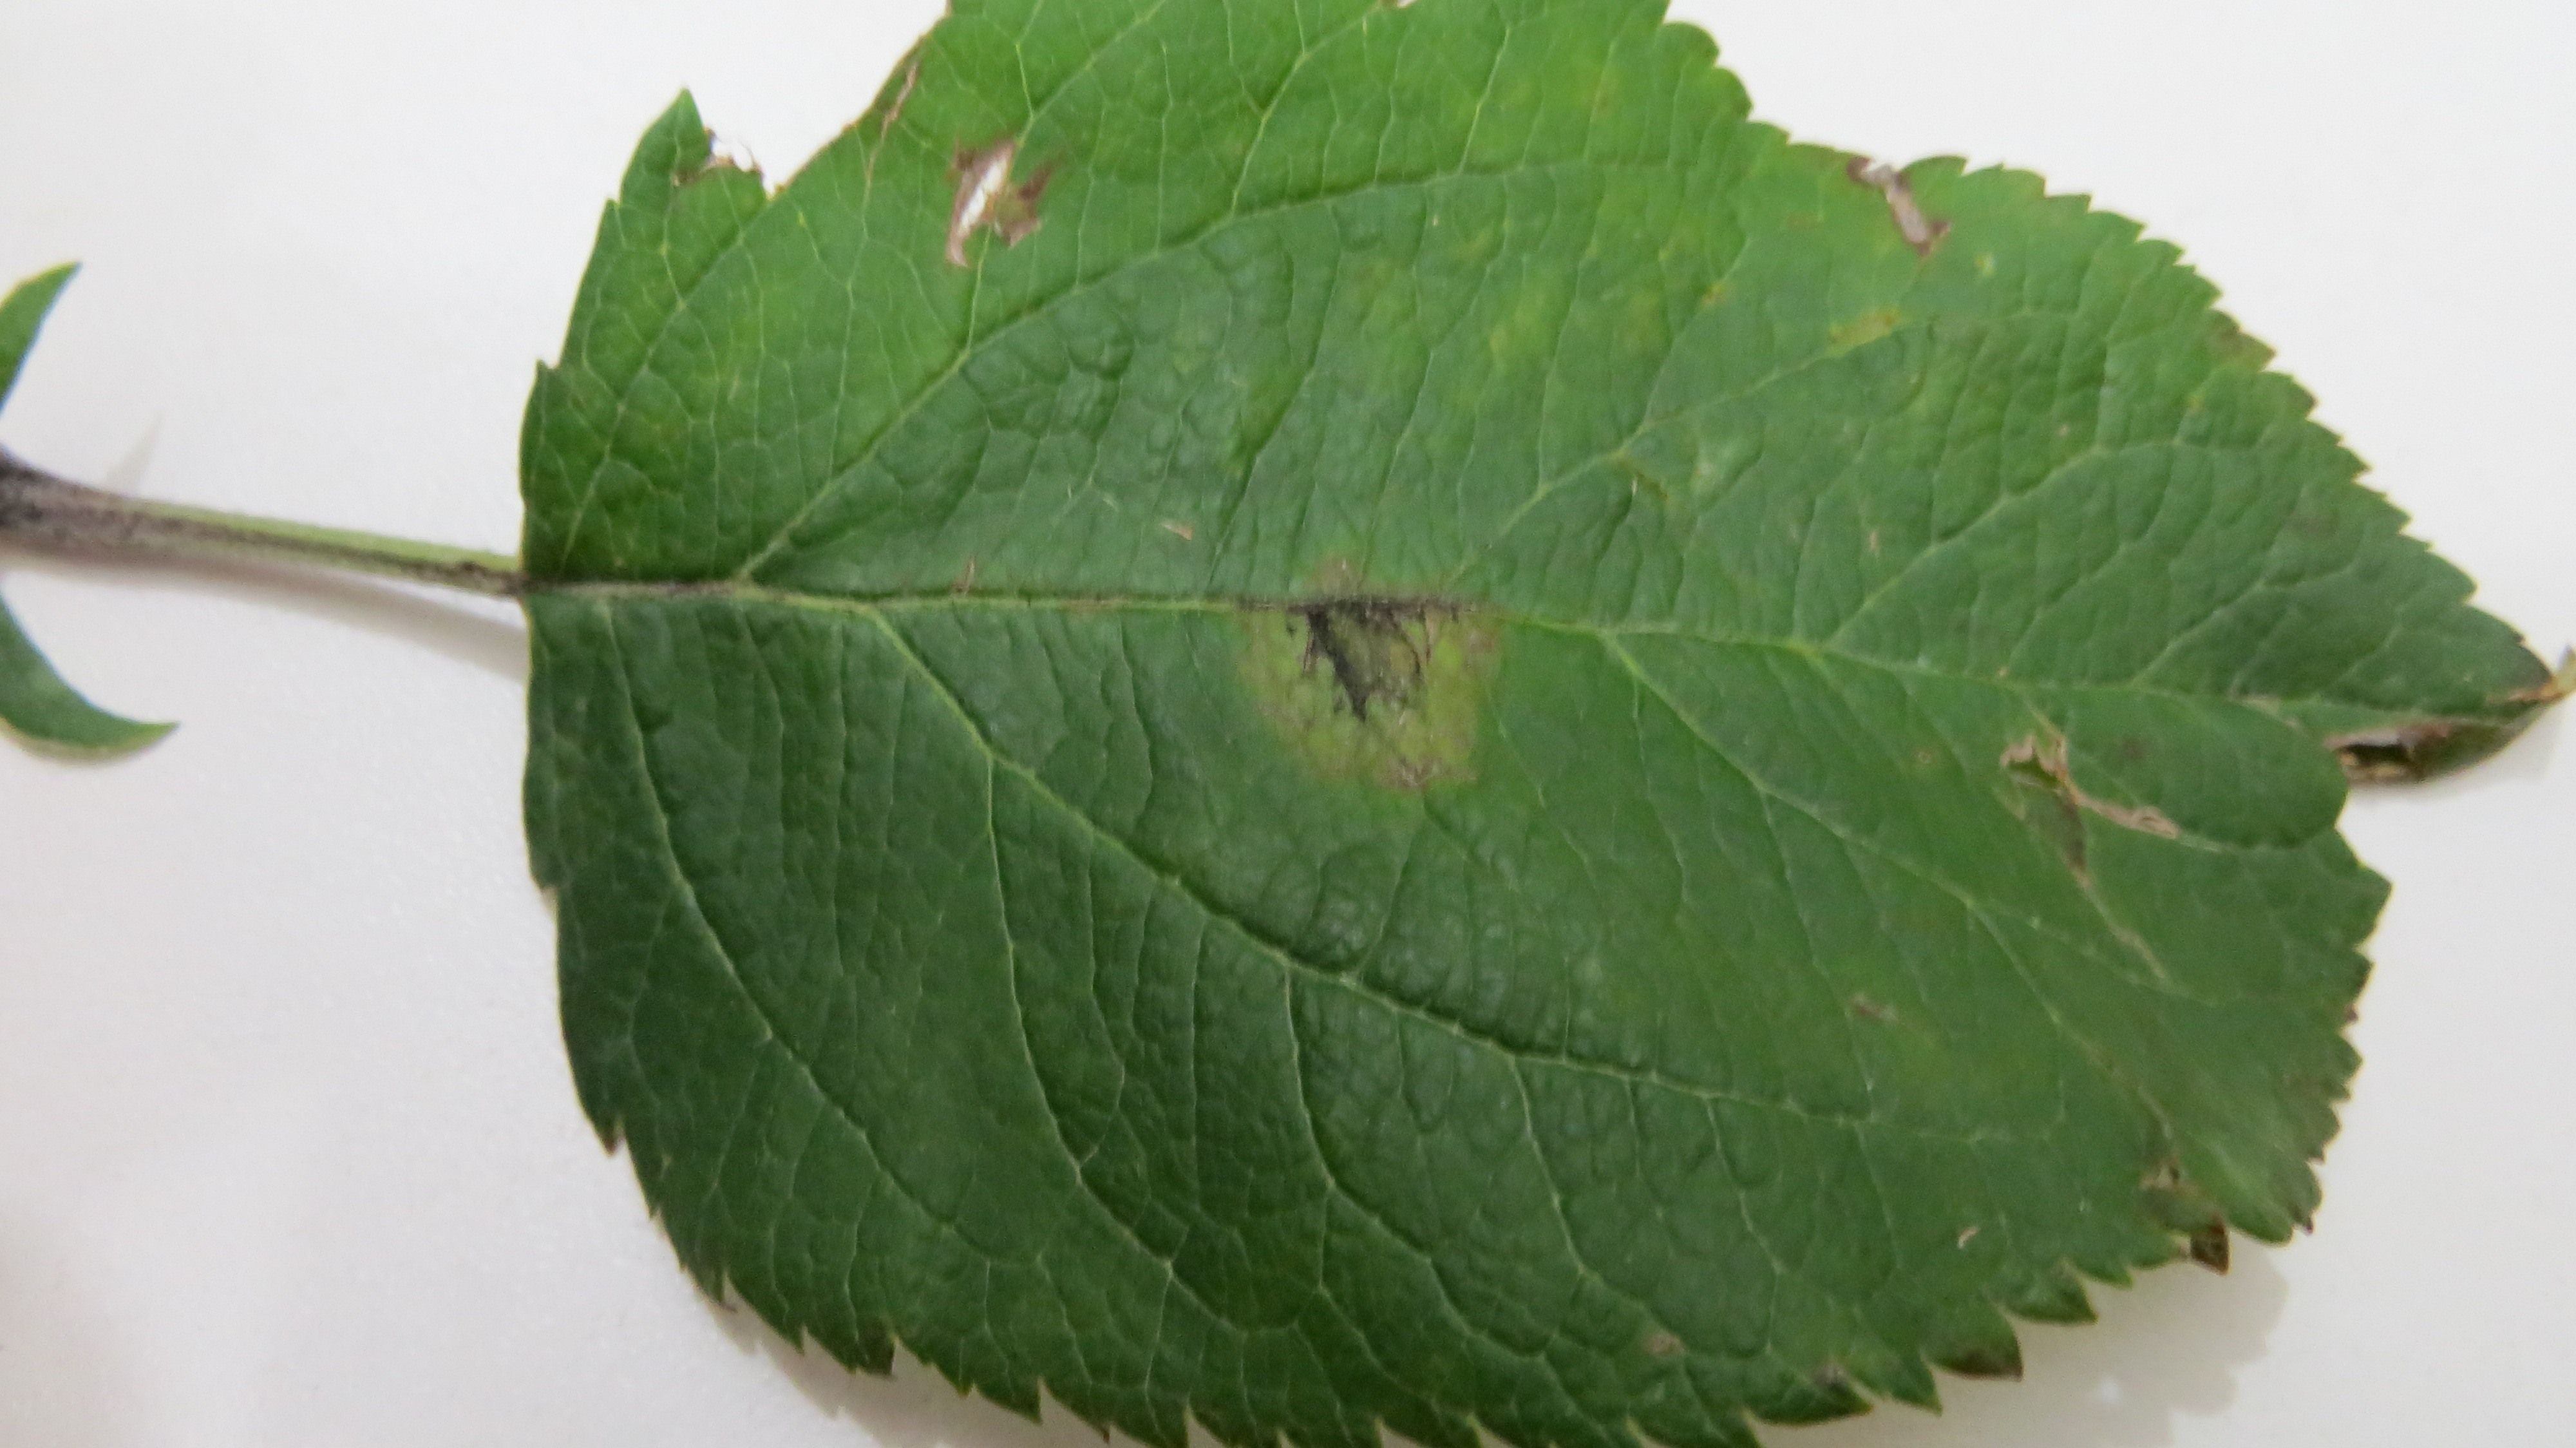sarna: (1230, 551, 1509, 795)
